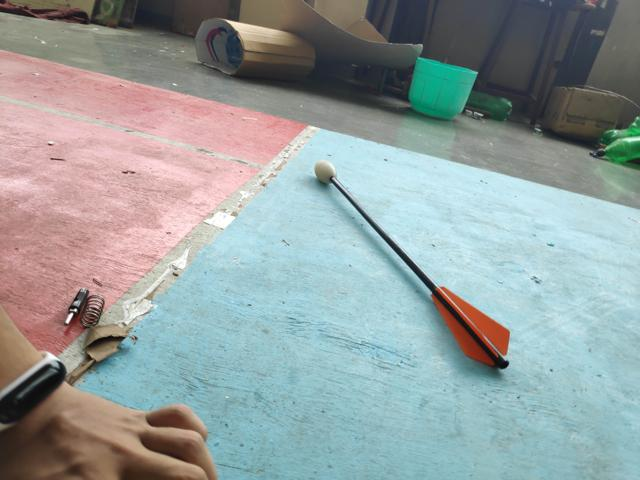Head: (311, 155, 339, 188)
Tail: (428, 284, 511, 370)
